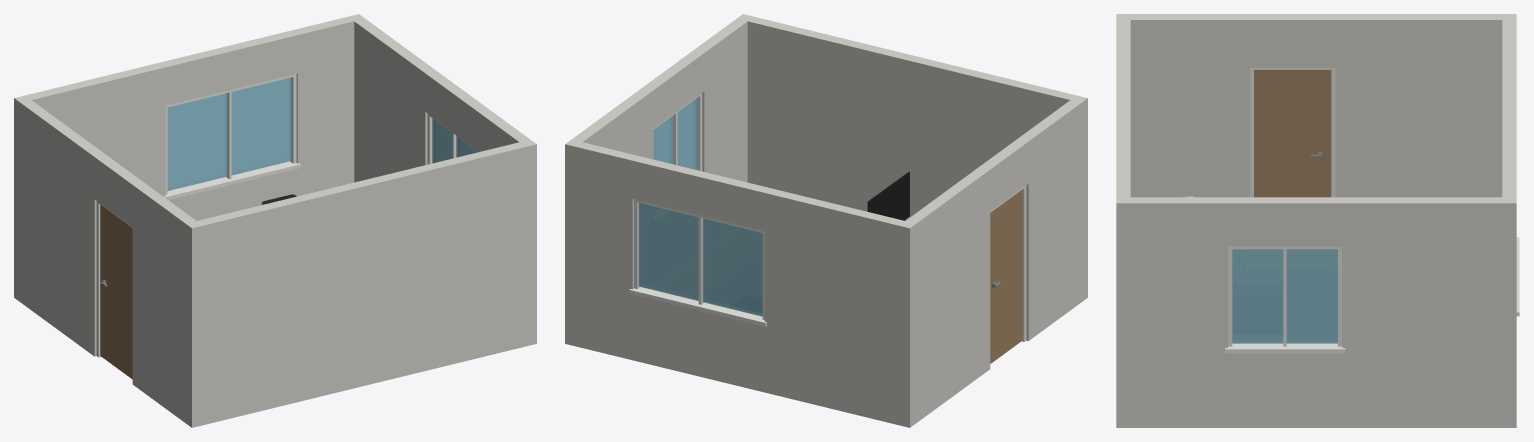
Rendered from layoutvlm.glb.
3 renders of one model, left to right at view 1: azimuth 30°, elevation 25°; view 2: azimuth 150°, elevation 25°; view 3: azimuth 270°, elevation 25°, orthographic. The views are drawn at different scales.
Visible parts, largest first — view 1: wall|scenesmith_000__R00|0, wall|scenesmith_000__R00|2, wall|scenesmith_000__R00|1, wall|scenesmith_000__R00|3, wall|scenesmith_000__R00|1 Window 0 | glazing, wall|scenesmith_000__R00|2 Door 0 | wood leaf, wall|scenesmith_000__R00|1 Window 0 | jamb, wall|scenesmith_000__R00|3 Window 0 | glazing, wall|scenesmith_000__R00|2 Door 0 | jamb, wall|scenesmith_000__R00|3 Window 0 | jamb; view 2: wall|scenesmith_000__R00|1, wall|scenesmith_000__R00|0, wall|scenesmith_000__R00|2, wall|scenesmith_000__R00|3, wall|scenesmith_000__R00|1 Window 0 | glazing, wall|scenesmith_000__R00|2 Door 0 | wood leaf, wall|scenesmith_000__R00|1 Window 0 | jamb, wall|scenesmith_000__R00|3 Window 0 | glazing, scenesmith_000__R00_tv-0, wall|scenesmith_000__R00|3 Window 0 | jamb, wall|scenesmith_000__R00|2 Door 0 | jamb; view 3: wall|scenesmith_000__R00|3, wall|scenesmith_000__R00|2, wall|scenesmith_000__R00|2 Door 0 | wood leaf, wall|scenesmith_000__R00|3 Window 0 | glazing, wall|scenesmith_000__R00|3 Window 0 | jamb, wall|scenesmith_000__R00|0, wall|scenesmith_000__R00|1, wall|scenesmith_000__R00|2 Door 0 | jamb.
Boxes of the visible parts, x1,y1,x2,y2 form: wall|scenesmith_000__R00|0: [185, 142, 526, 427]; wall|scenesmith_000__R00|2: [14, 95, 202, 427]; wall|scenesmith_000__R00|1: [25, 16, 354, 220]; wall|scenesmith_000__R00|3: [348, 14, 536, 346]; wall|scenesmith_000__R00|1 Window 0 | glazing: [167, 77, 291, 190]; wall|scenesmith_000__R00|2 Door 0 | wood leaf: [100, 205, 132, 379]; wall|scenesmith_000__R00|1 Window 0 | jamb: [163, 74, 301, 200]; wall|scenesmith_000__R00|3 Window 0 | glazing: [432, 118, 476, 163]; wall|scenesmith_000__R00|2 Door 0 | jamb: [96, 201, 132, 357]; wall|scenesmith_000__R00|3 Window 0 | jamb: [427, 114, 476, 164]; wall|scenesmith_000__R00|1: [576, 142, 904, 425]; wall|scenesmith_000__R00|0: [747, 16, 1087, 301]; wall|scenesmith_000__R00|2: [899, 95, 1087, 427]; wall|scenesmith_000__R00|3: [565, 14, 753, 346]; wall|scenesmith_000__R00|1 Window 0 | glazing: [638, 203, 762, 316]; wall|scenesmith_000__R00|2 Door 0 | wood leaf: [990, 189, 1022, 363]; wall|scenesmith_000__R00|1 Window 0 | jamb: [629, 199, 766, 326]; wall|scenesmith_000__R00|3 Window 0 | glazing: [653, 98, 697, 170]; scenesmith_000__R00_tv-0: [867, 172, 909, 220]; wall|scenesmith_000__R00|3 Window 0 | jamb: [653, 93, 702, 171]; wall|scenesmith_000__R00|2 Door 0 | jamb: [990, 186, 1026, 341]; wall|scenesmith_000__R00|3: [1116, 197, 1516, 427]; wall|scenesmith_000__R00|2: [1116, 14, 1516, 197]; wall|scenesmith_000__R00|2 Door 0 | wood leaf: [1254, 70, 1331, 197]; wall|scenesmith_000__R00|3 Window 0 | glazing: [1232, 249, 1337, 343]; wall|scenesmith_000__R00|3 Window 0 | jamb: [1225, 246, 1345, 353]; wall|scenesmith_000__R00|0: [1116, 20, 1130, 197]; wall|scenesmith_000__R00|1: [1502, 20, 1516, 197]; wall|scenesmith_000__R00|2 Door 0 | jamb: [1250, 67, 1335, 197].
Bounding box in the file's own units: 4.73 × 2.61 × 4.23.
Materials: 12 (4 with a texture image).
